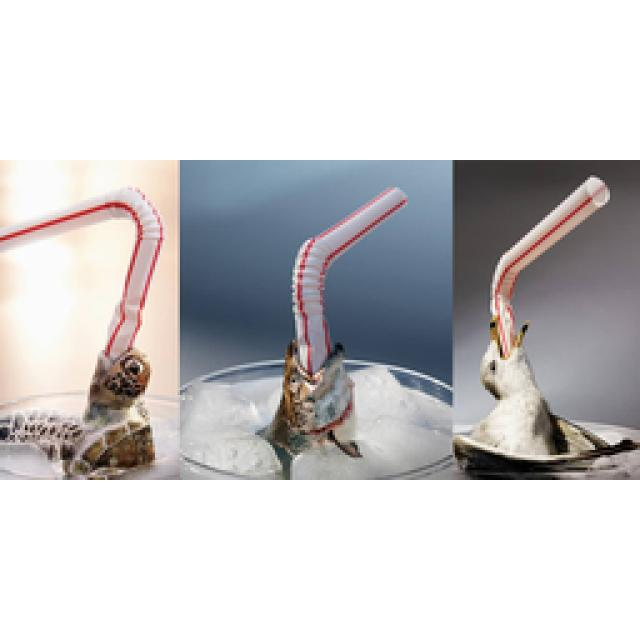plastic: (0, 180, 165, 360), (285, 180, 407, 375), (485, 170, 610, 355)
